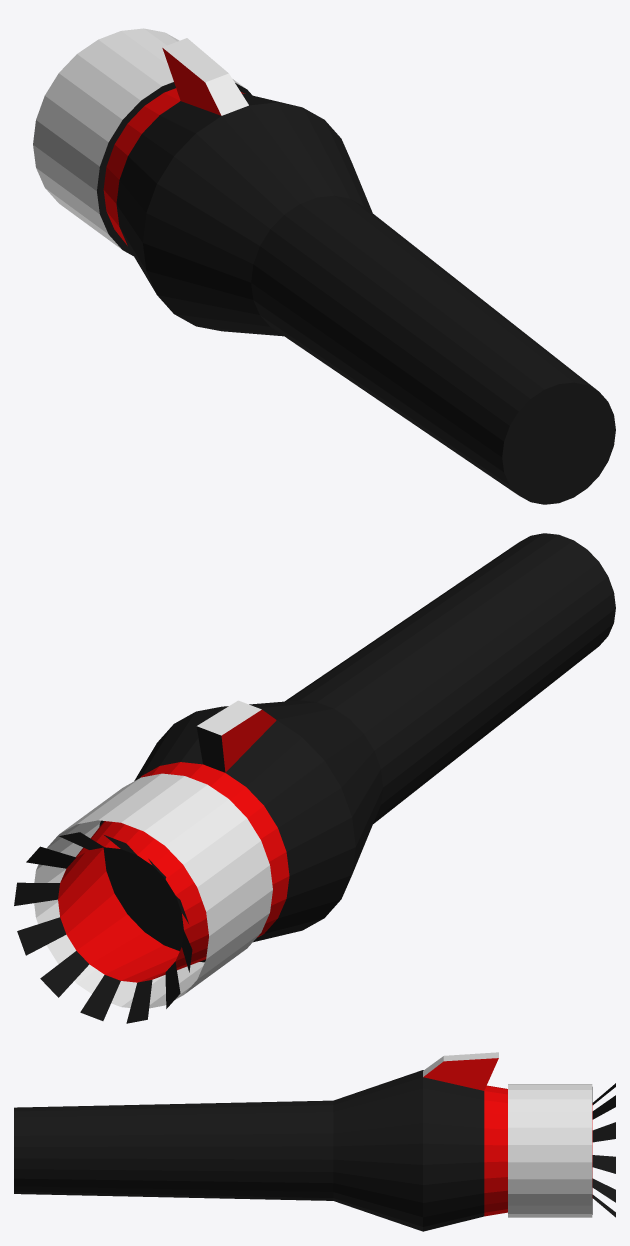
File: launcher2.glb
3 renders of one model, top to bottom at view 1: azimuth 30°, elevation 25°; view 2: azimuth 150°, elevation 25°; view 3: azimuth 270°, elevation 25°, orthographic. The views are drawn at different scales.
Parts seen in each view (by area): view 1: Cylinder; view 2: Cylinder; view 3: Cylinder.
Part boxes in pixels (left/top/right/bottom): Cylinder: left=33, top=28, right=615, bottom=504; Cylinder: left=14, top=533, right=615, bottom=1023; Cylinder: left=14, top=1052, right=615, bottom=1231.
Size of the model in its own units: 0.2808 by 0.3144 by 1.04.
